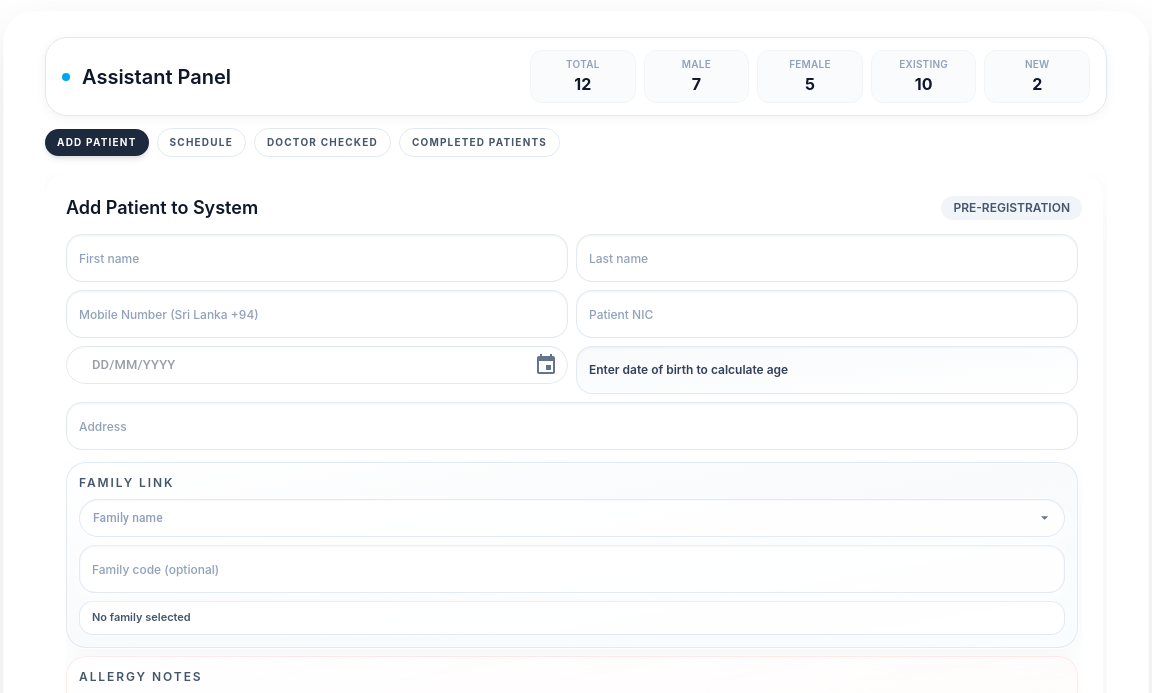
AssistantSection › renders duplicate placeholder NIC entries without duplicate-key warnings
Click the button "Completed Patients".
click(479, 142)  # box [399,128,560,157]
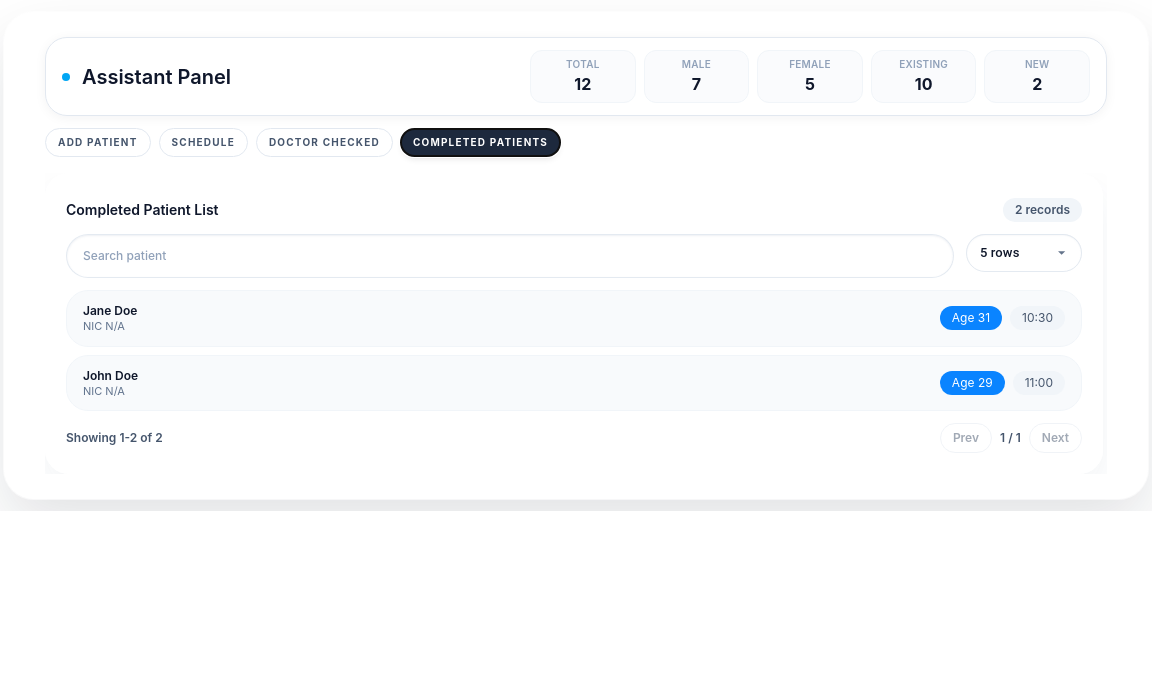
Result: the text "Jane Doe" is shown at [83,303,137,319]
Result: the text "John Doe" is shown at [83,368,138,384]
